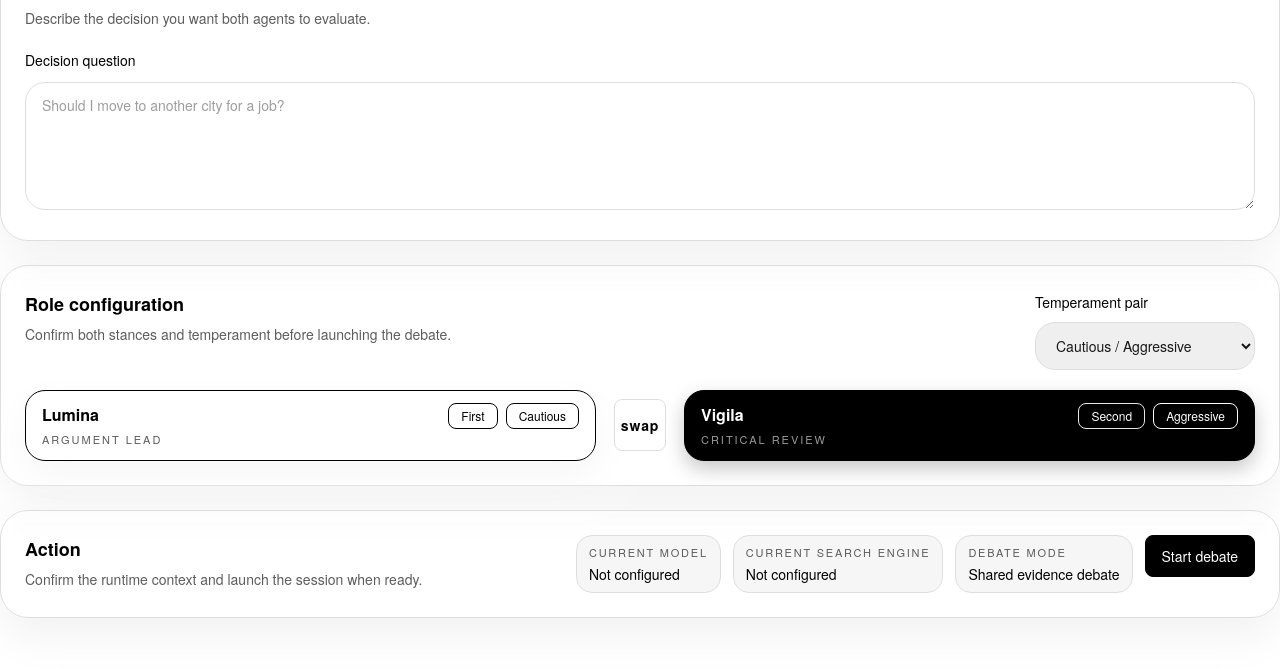
Test case: SessionShell › stops an active session before completion
The image size is (1280, 669).
Type "Should I move to another city?" into the text box labelled "Decision question" at (640, 146), box [25,82,1255,210]
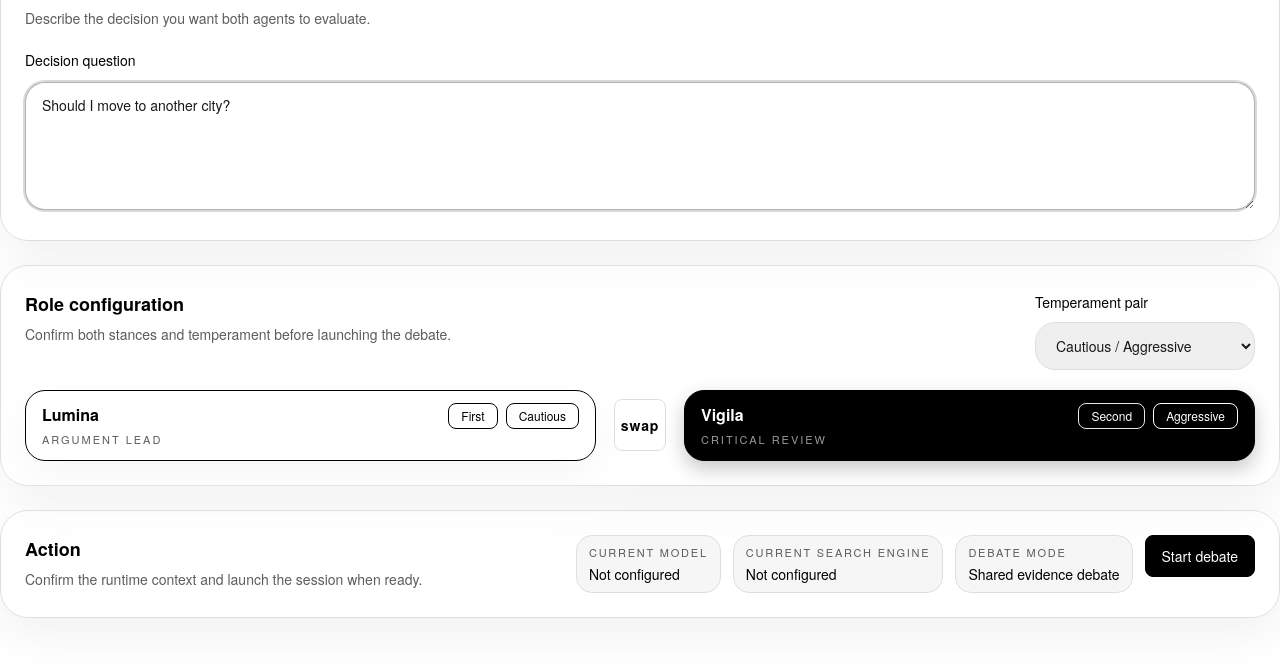
Click the button "Start debate" at (1200, 556), box [1145,534,1255,576]
(page scrolled)
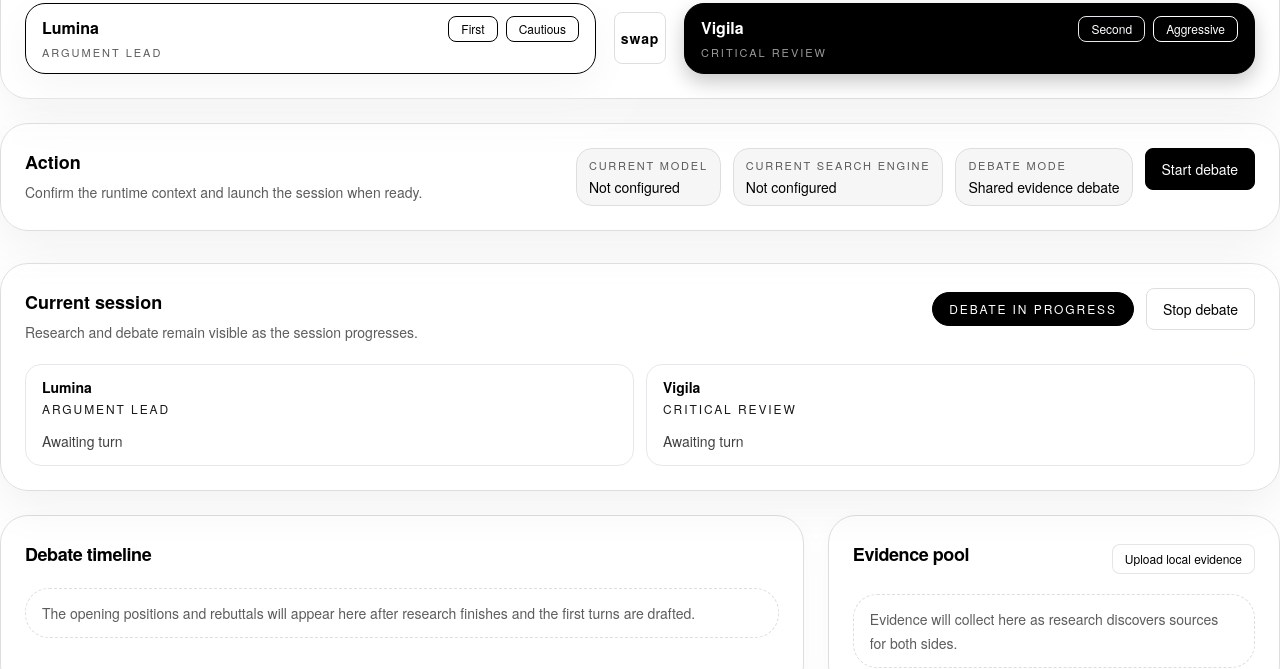
Click the button "Stop debate" at (1200, 309), box [1146,288,1255,330]
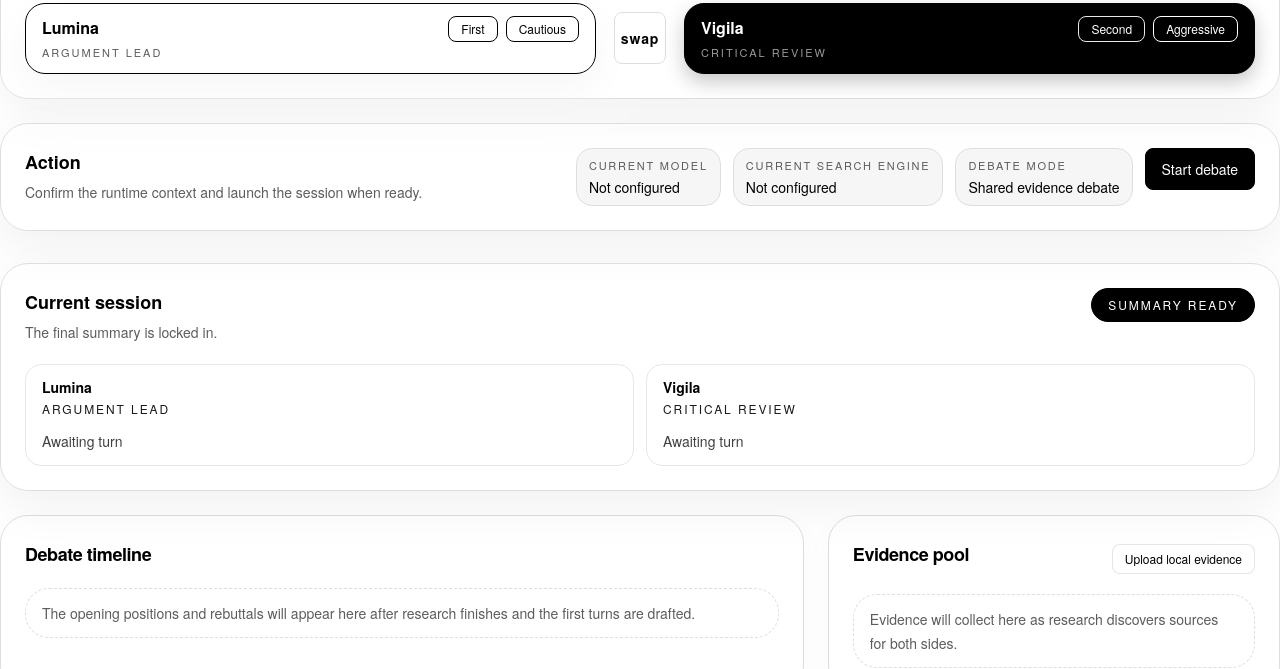
Expected: the button "Stop debate" is gone
